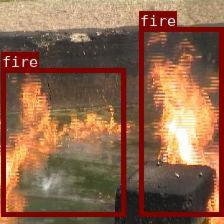fire: (0, 67, 125, 216), (139, 26, 222, 215)
